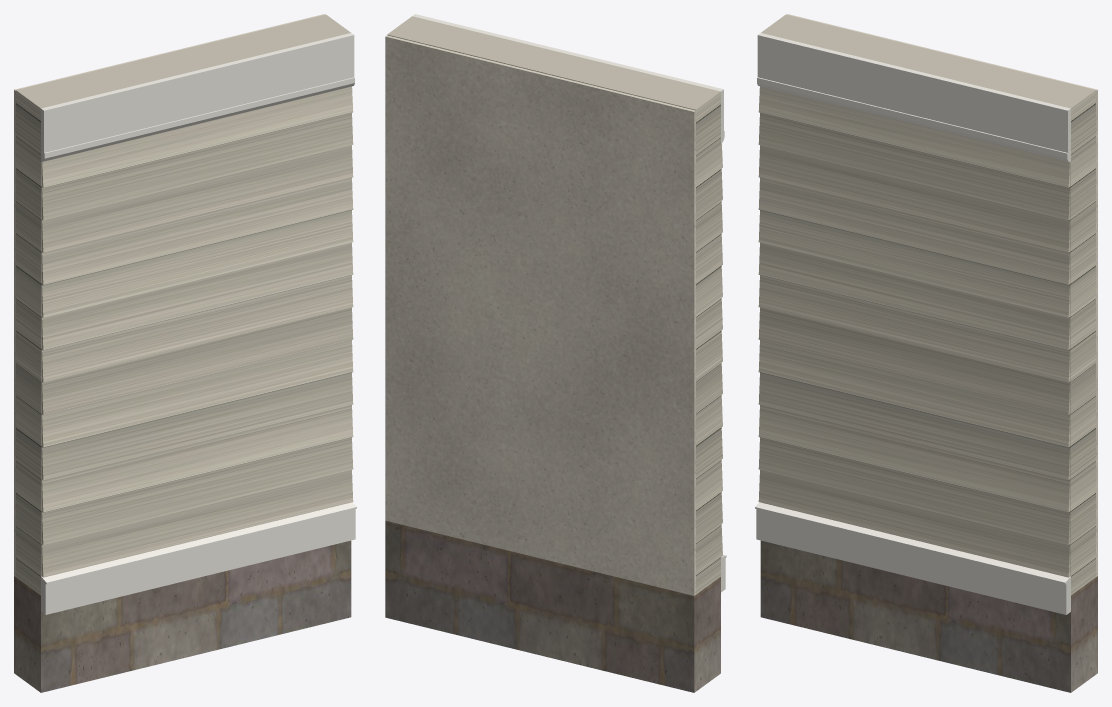
Rendered from h_plain0.glb.
The picture shows the model from 3 angles, left to right: view 1: azimuth 30°, elevation 25°; view 2: azimuth 150°, elevation 25°; view 3: azimuth 330°, elevation 25°; orthographic projection.
Parts seen in each view (by area): view 1: h_plain0_siding, h_plain0_trim, h_plain0_stone, h_plain0_plaster; view 2: h_plain0_plaster, h_plain0_stone, h_plain0_siding, h_plain0_trim; view 3: h_plain0_siding, h_plain0_trim, h_plain0_stone, h_plain0_plaster.
Part boxes in pixels (x1=…): h_plain0_siding: x1=16, y1=14, x2=353, y2=595; h_plain0_trim: x1=41, y1=33, x2=356, y2=614; h_plain0_stone: x1=14, y1=540, x2=351, y2=692; h_plain0_plaster: x1=14, y1=14, x2=324, y2=576; h_plain0_plaster: x1=385, y1=35, x2=695, y2=595; h_plain0_stone: x1=385, y1=520, x2=720, y2=692; h_plain0_siding: x1=387, y1=16, x2=722, y2=594; h_plain0_trim: x1=412, y1=14, x2=726, y2=592; h_plain0_siding: x1=758, y1=14, x2=1095, y2=595; h_plain0_trim: x1=755, y1=33, x2=1070, y2=614; h_plain0_stone: x1=760, y1=540, x2=1097, y2=692; h_plain0_plaster: x1=787, y1=14, x2=1097, y2=576.
Size of the model in its own units: 2 by 3.6 by 0.362.
4 materials, 3 textured.
